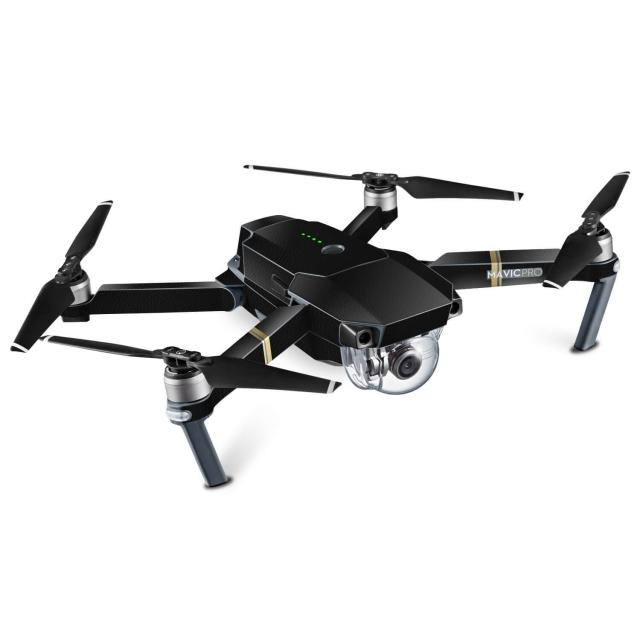drone: (9, 142, 640, 465)
